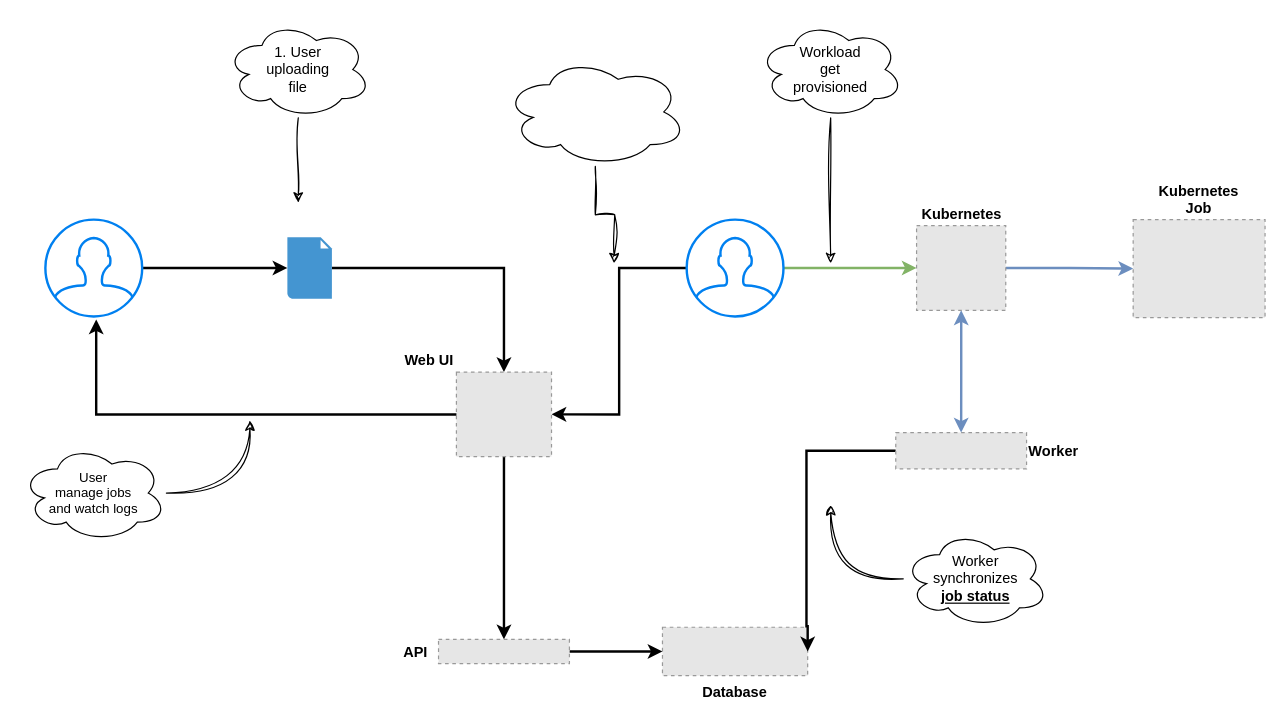
Some shapes in this 1286 by 722 pixel diagram are drawn without their labels. Grey dashed boxes stand in for pictures. The shapes that lost their labels are listed below. From the top down, each one's centre as x and y in pixels, then its label:
(x=595, y=111): 2. Moderator approve or decline
(x=93, y=267): User
(x=309, y=267): Jmeter Plan File
(x=734, y=267): Moderator
